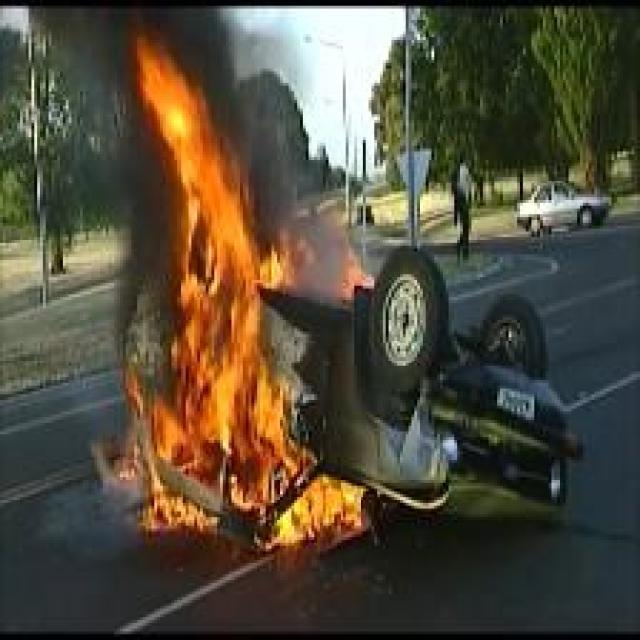Fire: (122, 39, 364, 548), (344, 234, 376, 303)
